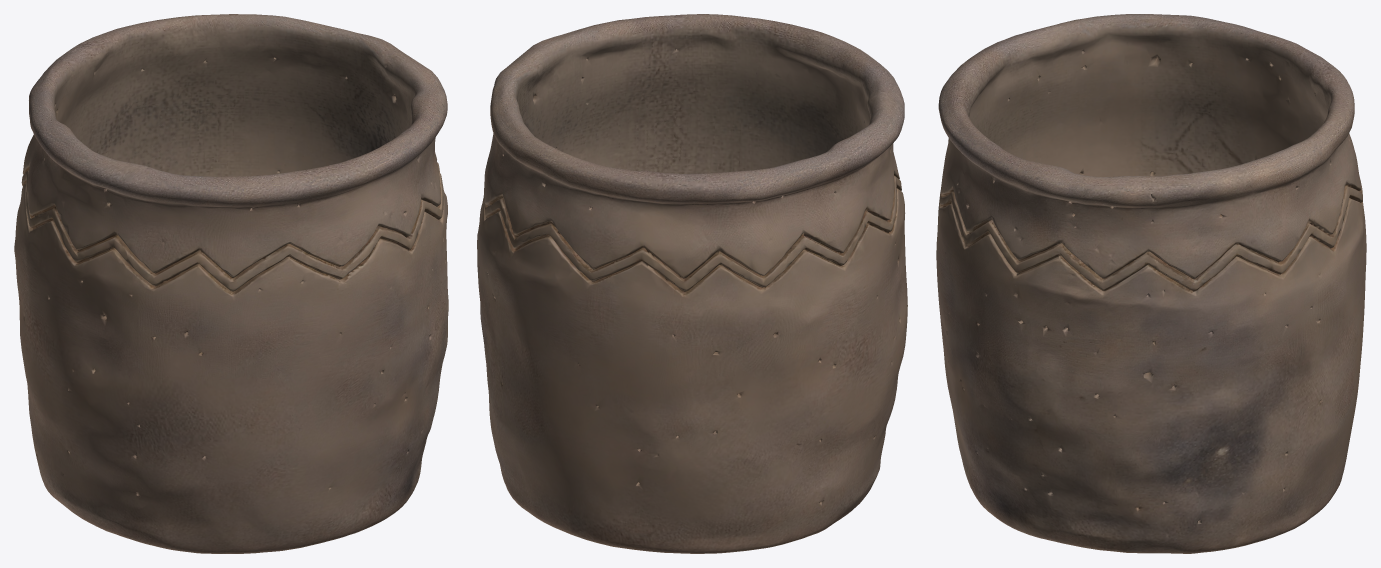
The model's file is potV2-v1.glb.
The picture shows the model from 3 angles, left to right: view 1: azimuth 30°, elevation 25°; view 2: azimuth 150°, elevation 25°; view 3: azimuth 270°, elevation 25°; orthographic projection.
Visible parts, largest first — view 1: tripo_node_5d50da02-e31c-4a3b-998e-e1fe12116f9e; view 2: tripo_node_5d50da02-e31c-4a3b-998e-e1fe12116f9e; view 3: tripo_node_5d50da02-e31c-4a3b-998e-e1fe12116f9e.
Boxes of the visible parts, x1,y1,x2,y2 form: tripo_node_5d50da02-e31c-4a3b-998e-e1fe12116f9e: (14, 14, 448, 553); tripo_node_5d50da02-e31c-4a3b-998e-e1fe12116f9e: (477, 14, 907, 553); tripo_node_5d50da02-e31c-4a3b-998e-e1fe12116f9e: (936, 14, 1366, 553).
Bounding box in the file's own units: 0.997 × 0.9846 × 1.
Materials: 1 (1 with a texture image).
